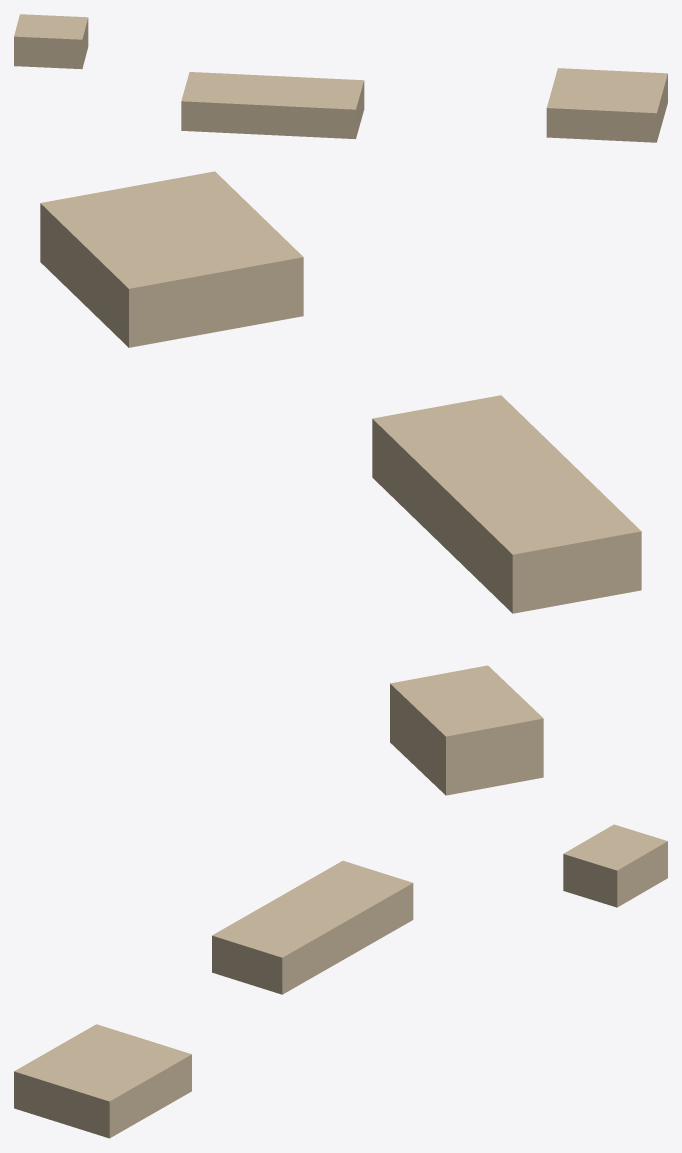
The model's file is -10_8-estimated-coarse.glb.
The picture shows the model from 3 angles, top to bottom: view 1: azimuth 30°, elevation 25°; view 2: azimuth 150°, elevation 25°; view 3: azimuth 270°, elevation 25°; orthographic projection. The views are drawn at different scales.
Size of the model in its own units: 193 by 12 by 192.
